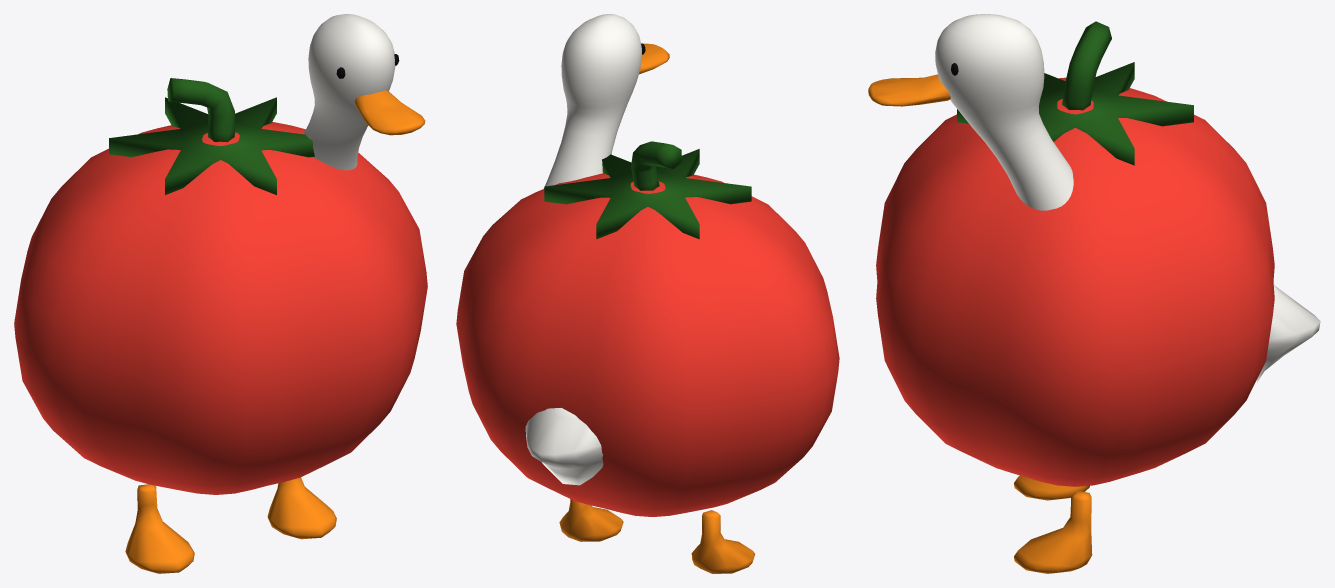
Rendered from duck-tomato.glb.
3 views of the same model, side by side, from view 1: azimuth 30°, elevation 25°; view 2: azimuth 150°, elevation 25°; view 3: azimuth 270°, elevation 25° (orthographic). The views are drawn at different scales.
Parts seen in each view (by area): view 1: duck-tomato; view 2: duck-tomato; view 3: duck-tomato.
Part boxes in pixels (box(x1,y1,x2,y2)): duck-tomato: box(14, 14, 427, 573); duck-tomato: box(456, 14, 839, 573); duck-tomato: box(868, 14, 1320, 573).
Size of the model in its own units: 0.77 by 1 by 0.7349.
Materials: 1 (1 with a texture image).
